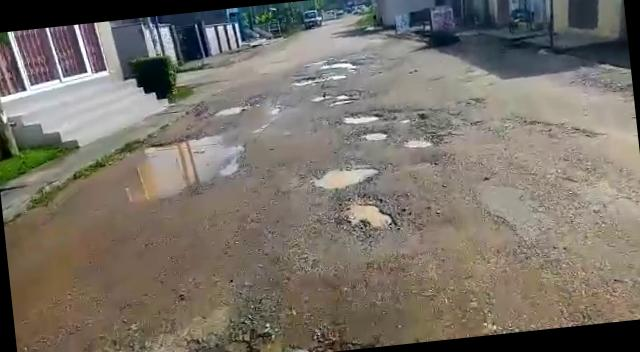pothole: (67, 135, 254, 213), (336, 192, 401, 240), (306, 160, 378, 195), (311, 91, 359, 110), (337, 108, 382, 126), (290, 72, 346, 86), (402, 136, 435, 152), (358, 130, 392, 144), (212, 105, 248, 116)
